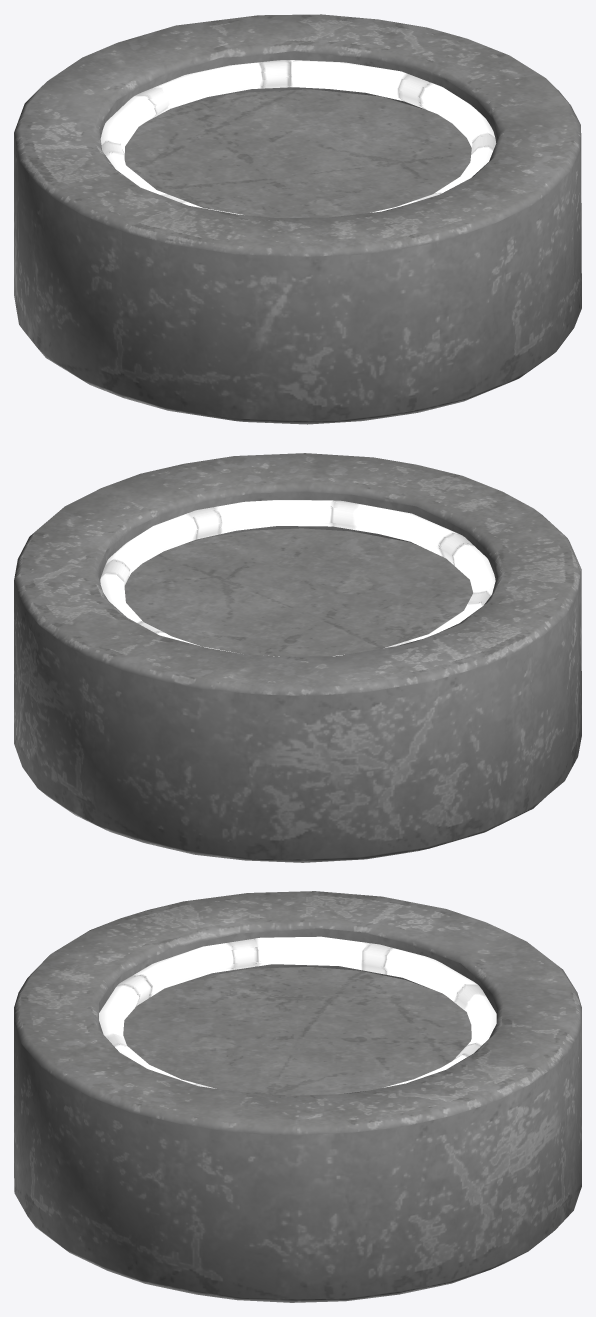
Rendered from SM_Circular_Base_Struct1.glb.
The picture shows the model from 3 angles, top to bottom: view 1: azimuth 30°, elevation 25°; view 2: azimuth 150°, elevation 25°; view 3: azimuth 270°, elevation 25°; orthographic projection.
Parts seen in each view (by area): view 1: SM_Circular_Base_Struct1; view 2: SM_Circular_Base_Struct1; view 3: SM_Circular_Base_Struct1.
Boxes of the visible parts, bbox=[...] form: SM_Circular_Base_Struct1: bbox=[14, 14, 581, 424]; SM_Circular_Base_Struct1: bbox=[14, 453, 581, 862]; SM_Circular_Base_Struct1: bbox=[14, 891, 581, 1302].
Bounding box in the file's own units: 1.92 × 0.6594 × 1.92.
2 materials, 2 textured.
